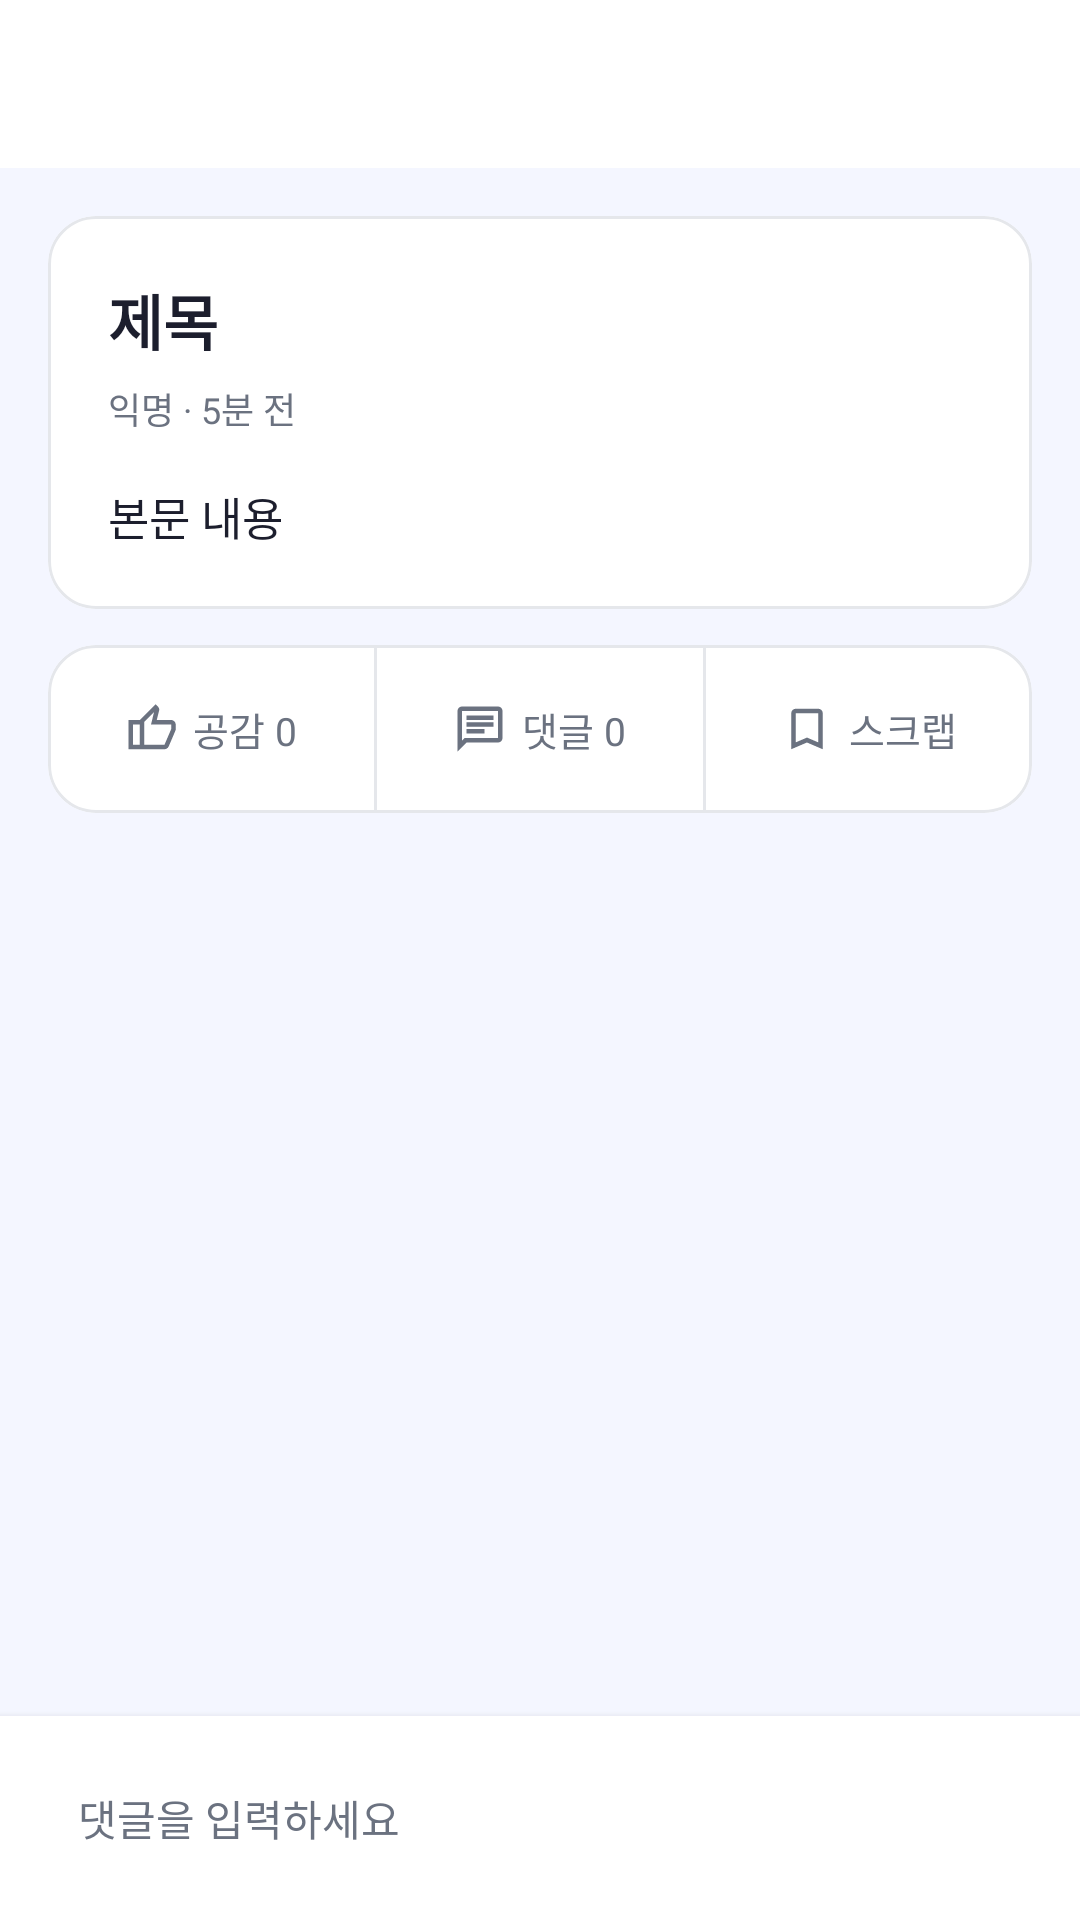

Screen size 1080x1920. Icon name, then its box in pixels as (x1, y1, x2, y2):
bookmark: (791, 708, 823, 749)
thumb up: (128, 704, 176, 750)
